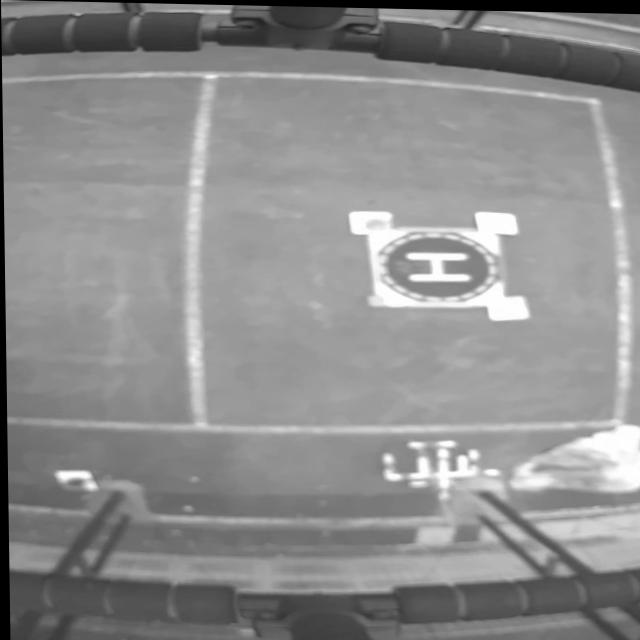Helipad: (405, 251, 467, 280)
